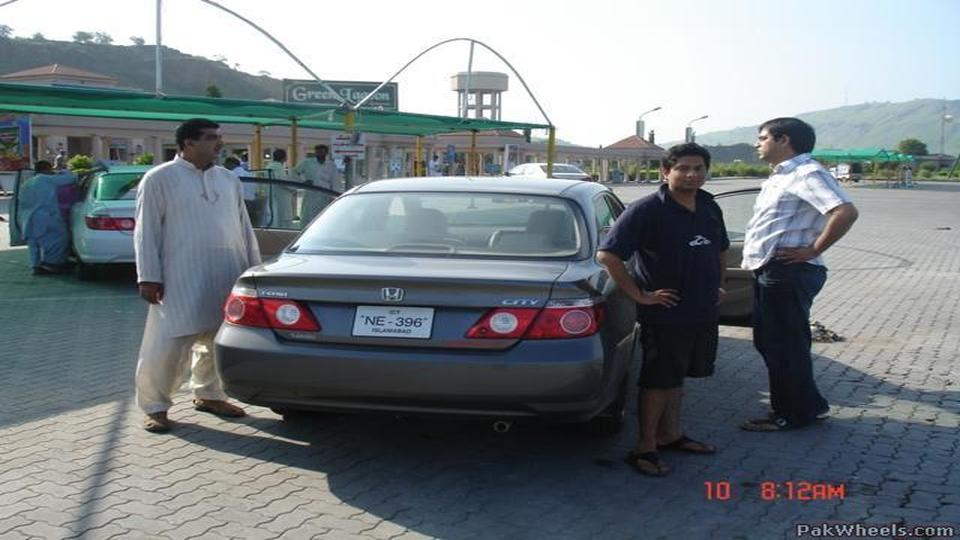NumberPlate: (349, 298, 459, 353)
